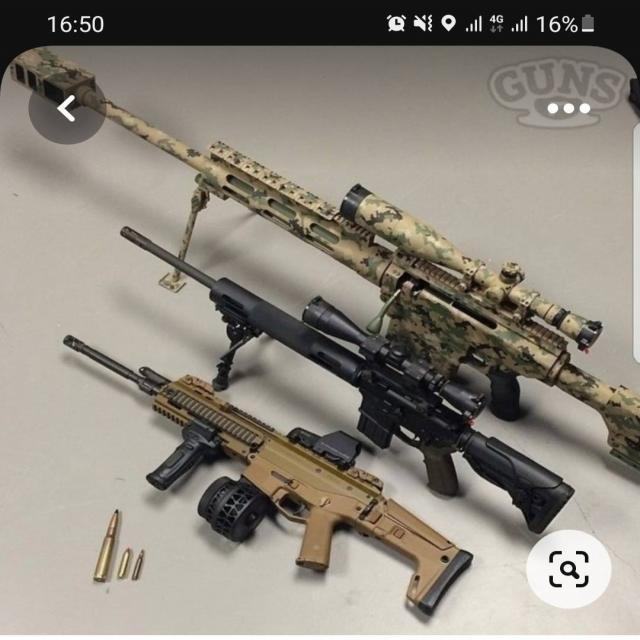m16: (159, 86, 606, 422)
